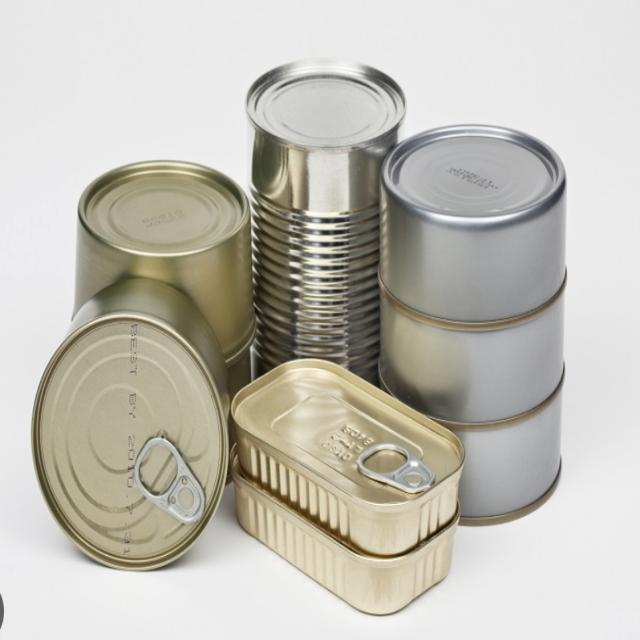recyclable: (374, 111, 577, 540), (231, 343, 474, 630), (20, 275, 236, 587), (230, 52, 417, 403), (62, 141, 270, 327)
